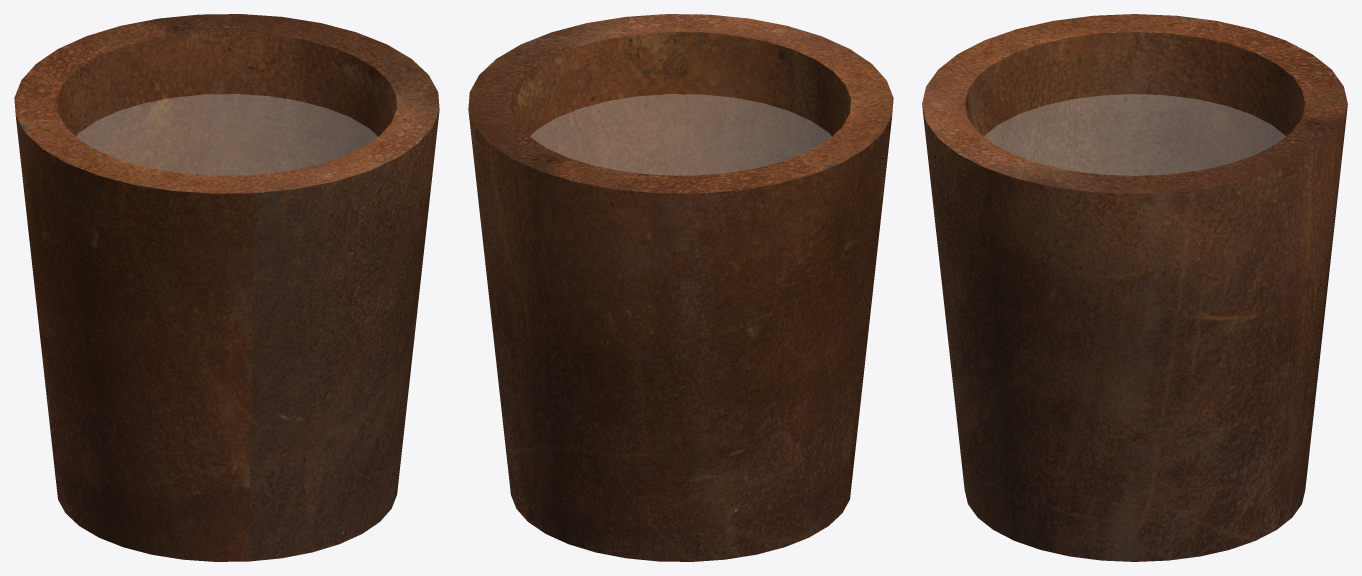
File: Cooling.fbx
3 renders of one model, left to right at view 1: azimuth 30°, elevation 25°; view 2: azimuth 150°, elevation 25°; view 3: azimuth 270°, elevation 25°, orthographic.
Visible parts, largest first — view 1: Bucket, Circle; view 2: Bucket, Circle; view 3: Bucket, Circle.
Boxes of the visible parts, <box> form: Bucket: <box>14,14,439,561</box>; Circle: <box>76,94,377,175</box>; Bucket: <box>468,14,893,561</box>; Circle: <box>530,94,831,175</box>; Bucket: <box>922,14,1347,561</box>; Circle: <box>984,94,1285,175</box>.
Bounding box in the file's own units: 0.55 × 0.55 × 0.55.
